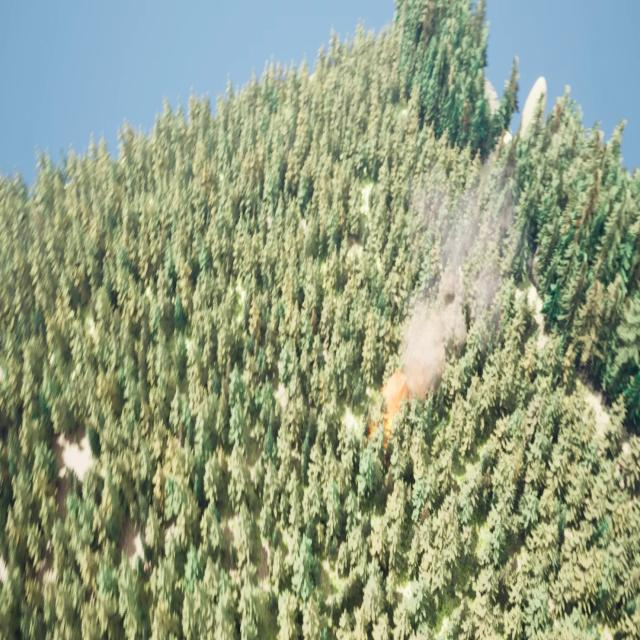smoke: (375, 162, 512, 423)
